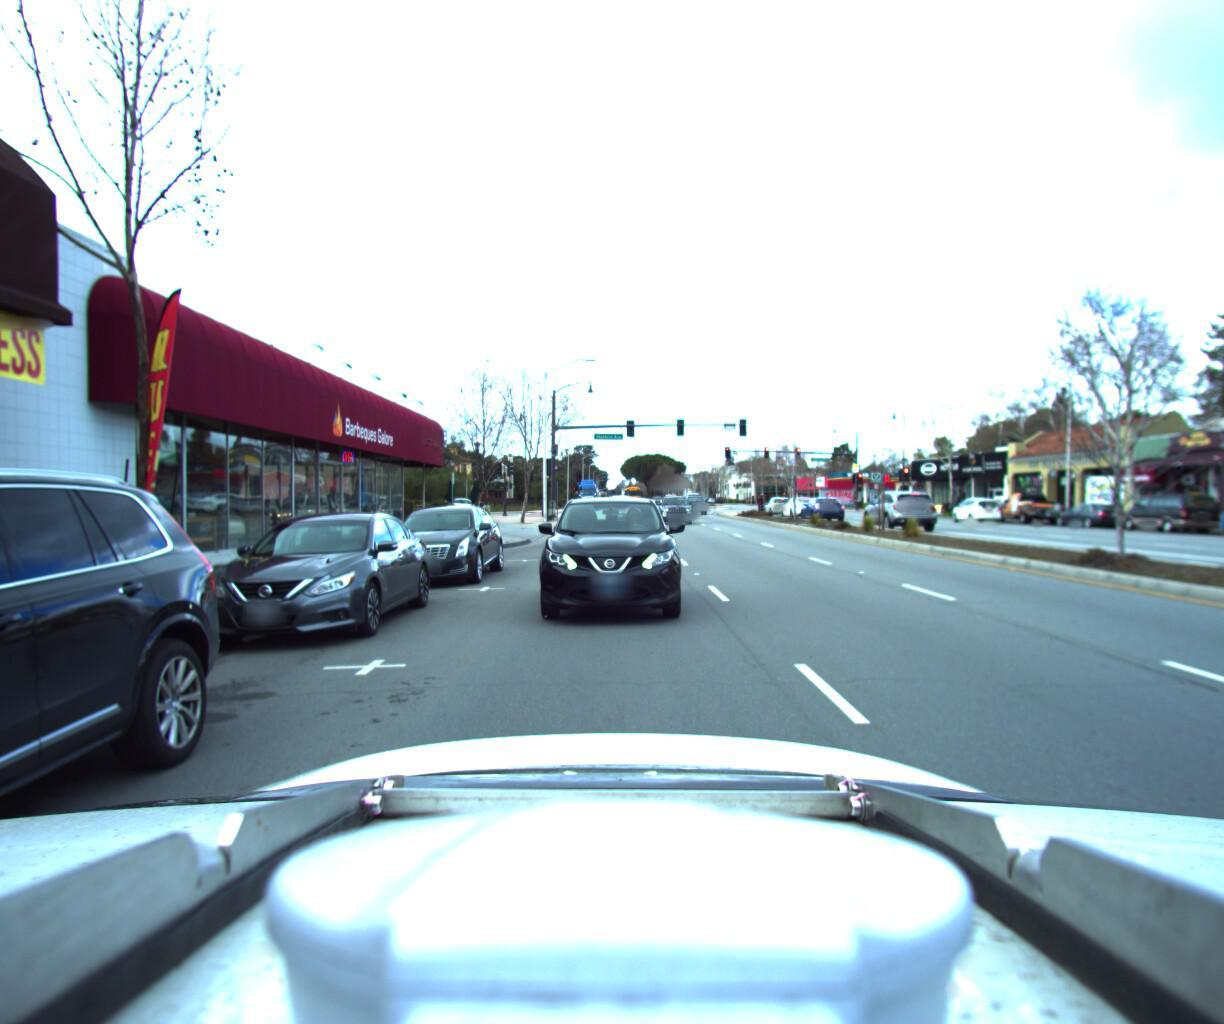bicycle: (752, 485, 768, 507)
car: (0, 406, 238, 1024), (169, 503, 437, 657), (535, 492, 687, 640), (364, 494, 503, 591), (1113, 485, 1223, 528), (988, 467, 1067, 519), (860, 484, 937, 526), (1046, 495, 1130, 522), (945, 491, 1001, 519), (795, 489, 845, 515), (656, 491, 693, 520), (777, 489, 821, 513), (433, 491, 490, 508), (761, 488, 793, 509), (682, 483, 710, 507)
